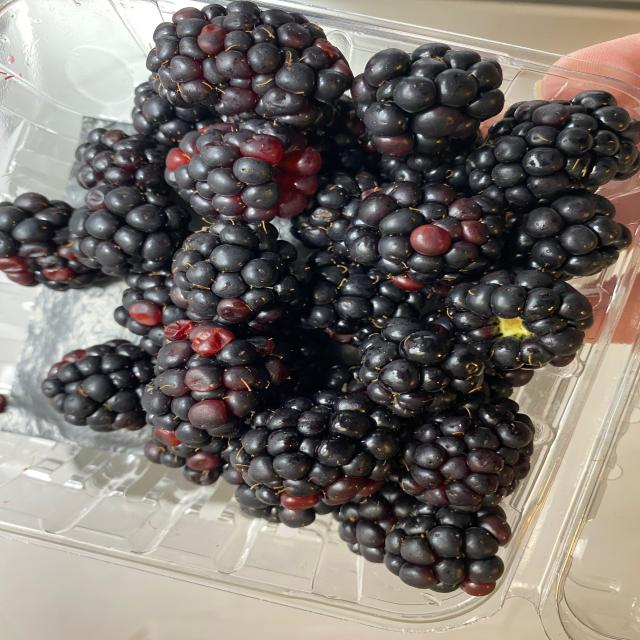blackberries: (34, 9, 617, 589)
